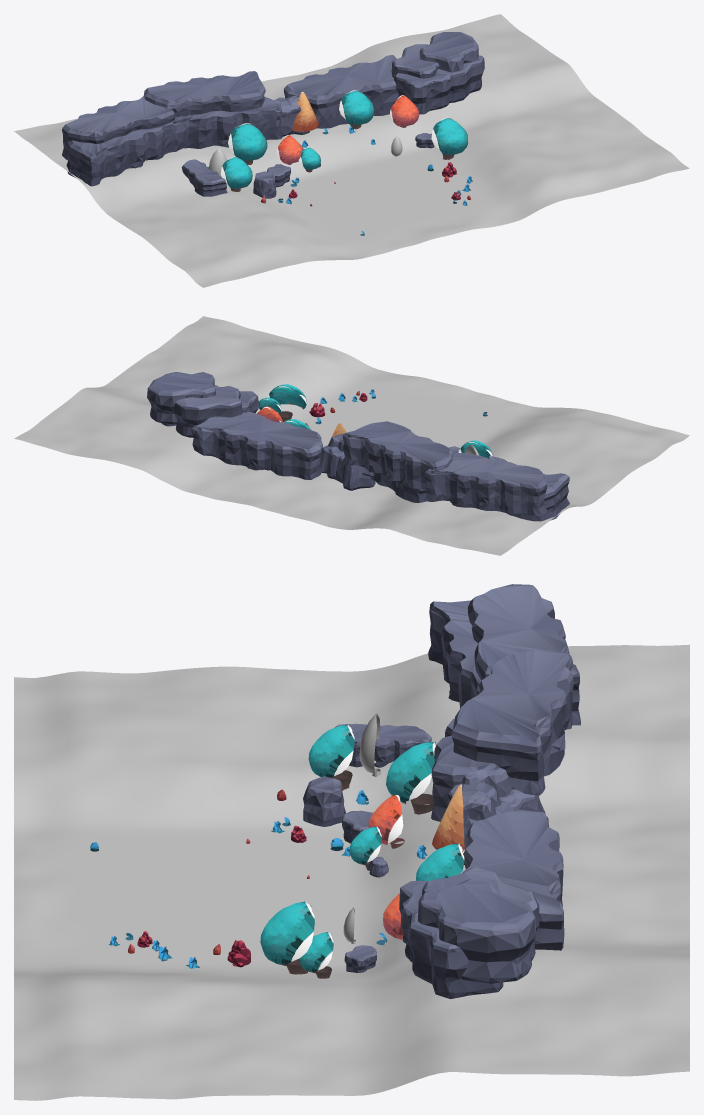
The model's file is luna_arena.glb.
The picture shows the model from 3 angles, top to bottom: view 1: azimuth 30°, elevation 25°; view 2: azimuth 150°, elevation 25°; view 3: azimuth 270°, elevation 25°; orthographic projection. The views are drawn at different scales.
Parts seen in each view (by area): view 1: G_luna_Ground, P_luna_00_mesa_wide, P_luna_03_mesa_a, P_luna_02_ridge, P_luna_06_tree_a, P_luna_36_tree_a, P_luna_13_ridge, P_luna_05_tree_a, P_luna_20_tree_a, P_luna_01_mesa_b, P_luna_07_tree_b, P_luna_04_tree_c (+2 smaller); view 2: G_luna_Ground, P_luna_00_mesa_wide, P_luna_02_ridge, P_luna_03_mesa_a, P_luna_01_mesa_b, P_luna_36_tree_a; view 3: G_luna_Ground, P_luna_00_mesa_wide, P_luna_03_mesa_a, P_luna_02_ridge, P_luna_01_mesa_b, P_luna_36_tree_a, P_luna_06_tree_a, P_luna_20_tree_a, P_luna_13_ridge, P_luna_15_butte, P_luna_05_tree_a, P_luna_04_tree_c (+4 smaller).
Boxes of the visible parts, x1,y1,x2,y2 form: G_luna_Ground: (14, 14, 689, 287); P_luna_00_mesa_wide: (62, 71, 282, 186); P_luna_03_mesa_a: (391, 32, 484, 114); P_luna_02_ridge: (284, 55, 398, 128); P_luna_06_tree_a: (228, 123, 267, 164); P_luna_36_tree_a: (431, 117, 468, 159); P_luna_13_ridge: (181, 159, 227, 196); P_luna_05_tree_a: (339, 90, 374, 129); P_luna_20_tree_a: (220, 156, 252, 191); P_luna_01_mesa_b: (264, 96, 309, 136); P_luna_07_tree_b: (390, 95, 419, 127); P_luna_04_tree_c: (292, 92, 318, 134); G_luna_Ground: (14, 316, 689, 555); P_luna_00_mesa_wide: (342, 421, 569, 521); P_luna_02_ridge: (191, 412, 322, 479); P_luna_03_mesa_a: (147, 372, 259, 437); P_luna_01_mesa_b: (320, 433, 375, 490); P_luna_36_tree_a: (267, 384, 306, 421); G_luna_Ground: (14, 644, 689, 1100); P_luna_00_mesa_wide: (428, 584, 580, 821); P_luna_03_mesa_a: (399, 867, 539, 998); P_luna_02_ridge: (462, 810, 564, 950); P_luna_01_mesa_b: (447, 768, 548, 864); P_luna_36_tree_a: (260, 901, 314, 974); P_luna_06_tree_a: (386, 742, 435, 814); P_luna_20_tree_a: (308, 724, 354, 790); P_luna_13_ridge: (334, 723, 431, 767); P_luna_15_butte: (303, 776, 345, 826); P_luna_05_tree_a: (416, 843, 464, 880); P_luna_04_tree_c: (432, 784, 464, 853).
Bounding box in the file's own units: 92.08 × 13.07 × 62.
